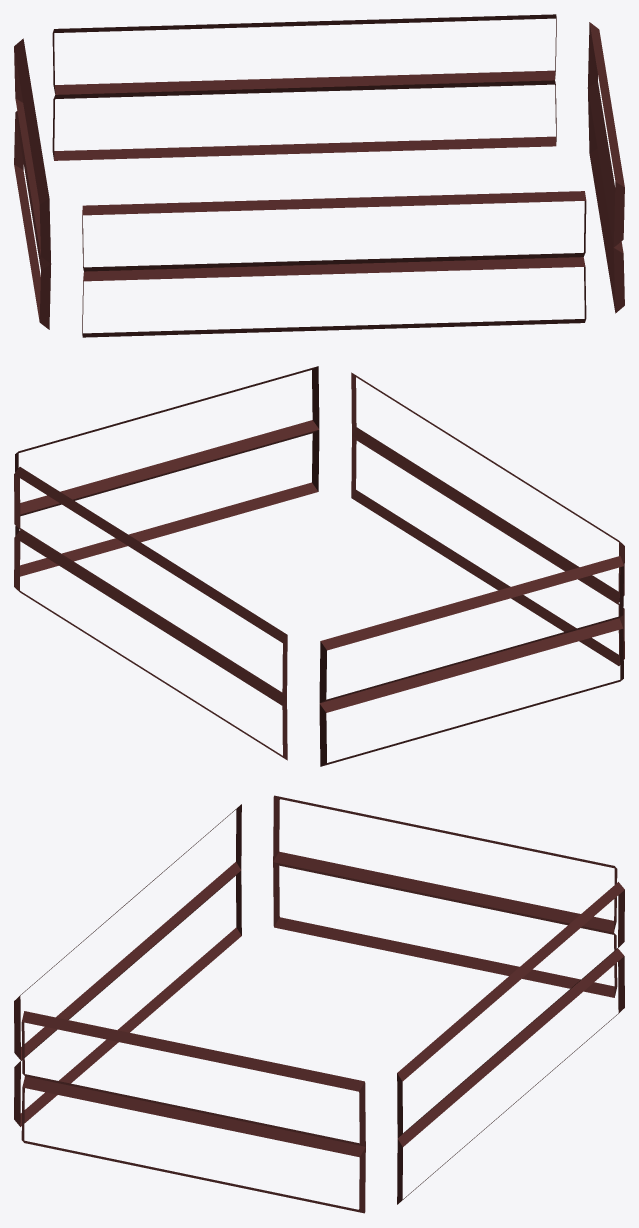
Rendered from n2_chest_bottom_dark_brown_0_lev2.004.glb.
3 renders of one model, top to bottom at view 1: azimuth 30°, elevation 25°; view 2: azimuth 150°, elevation 25°; view 3: azimuth 270°, elevation 25°, orthographic. The views are drawn at different scales.
Visible parts, largest first — view 1: n2_chest_bottom_dark_brown_0_lev2.004; view 2: n2_chest_bottom_dark_brown_0_lev2.004; view 3: n2_chest_bottom_dark_brown_0_lev2.004.
Part boxes in pixels (<box>): n2_chest_bottom_dark_brown_0_lev2.004: <box>14,14,624,337</box>; n2_chest_bottom_dark_brown_0_lev2.004: <box>14,366,624,766</box>; n2_chest_bottom_dark_brown_0_lev2.004: <box>14,795,624,1213</box>.
Size of the model in its own units: 1.92 by 0.4042 by 1.69.
